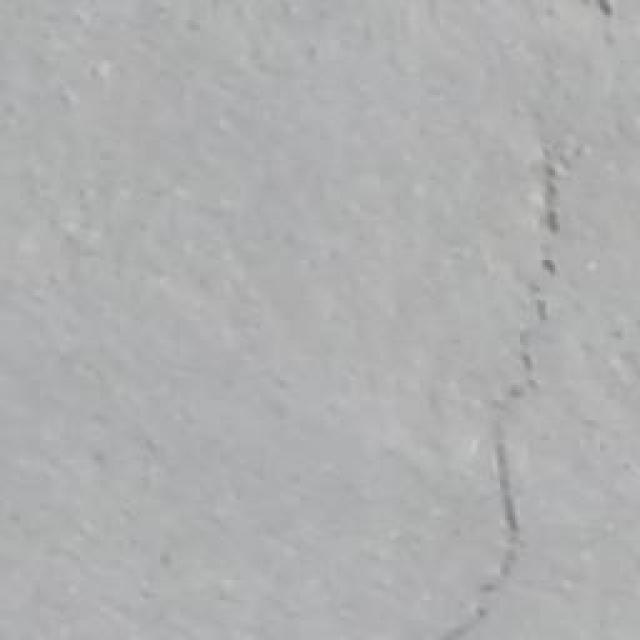concrete-crack: (451, 137, 565, 638)
